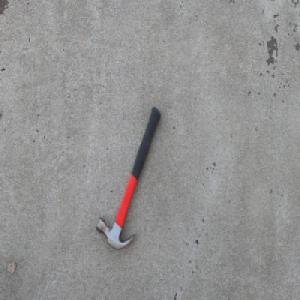Hammer: (95, 104, 162, 250)
